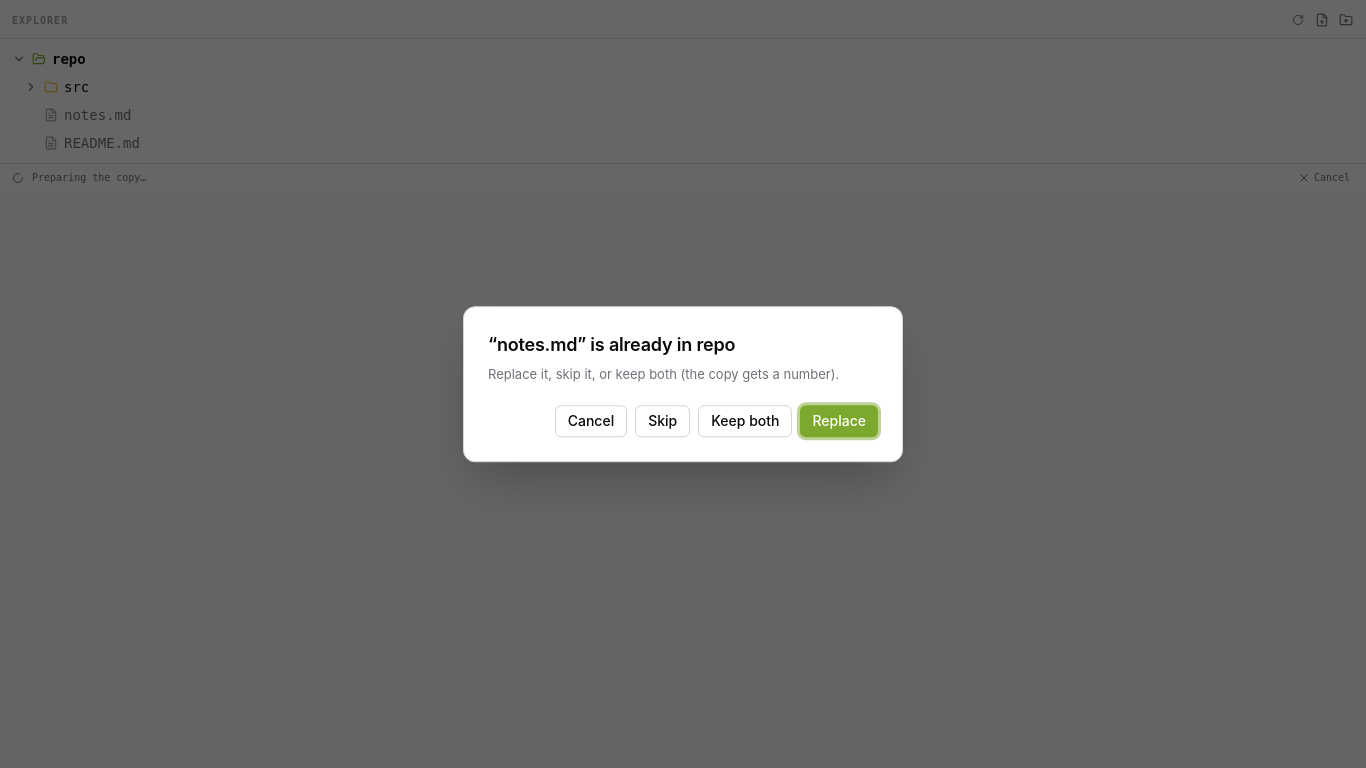
Test: dropping files from this computer › asks once when a name is taken and sends the choice for the batch
The width and height of the screenshot is (1366, 768).
Earlier steps of the test are not shown.
Check: the text "src" is shown, box [64,78,89,94]
Click the button "Keep both": {"x": 745, "y": 421} [698,405,792,437]
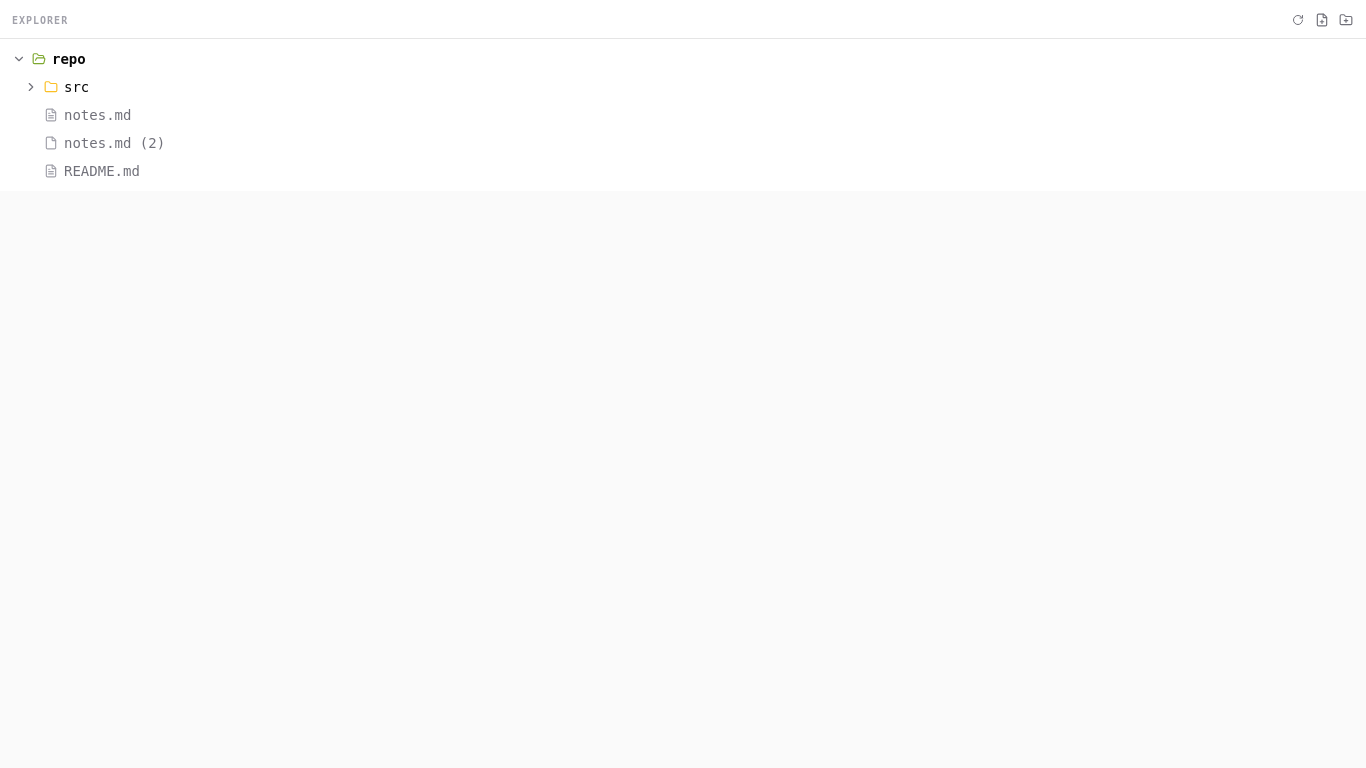
Check: the text "notes.md (2)" is shown, box [64,134,165,150]
